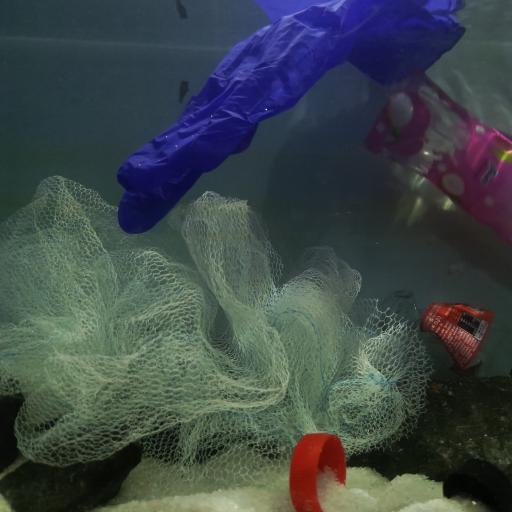bottle_cap: (291, 433, 347, 512), (442, 456, 512, 511)
glove: (114, 0, 468, 236)
net: (1, 173, 436, 484)
plastic_bottle: (354, 64, 512, 240), (381, 289, 512, 377)
